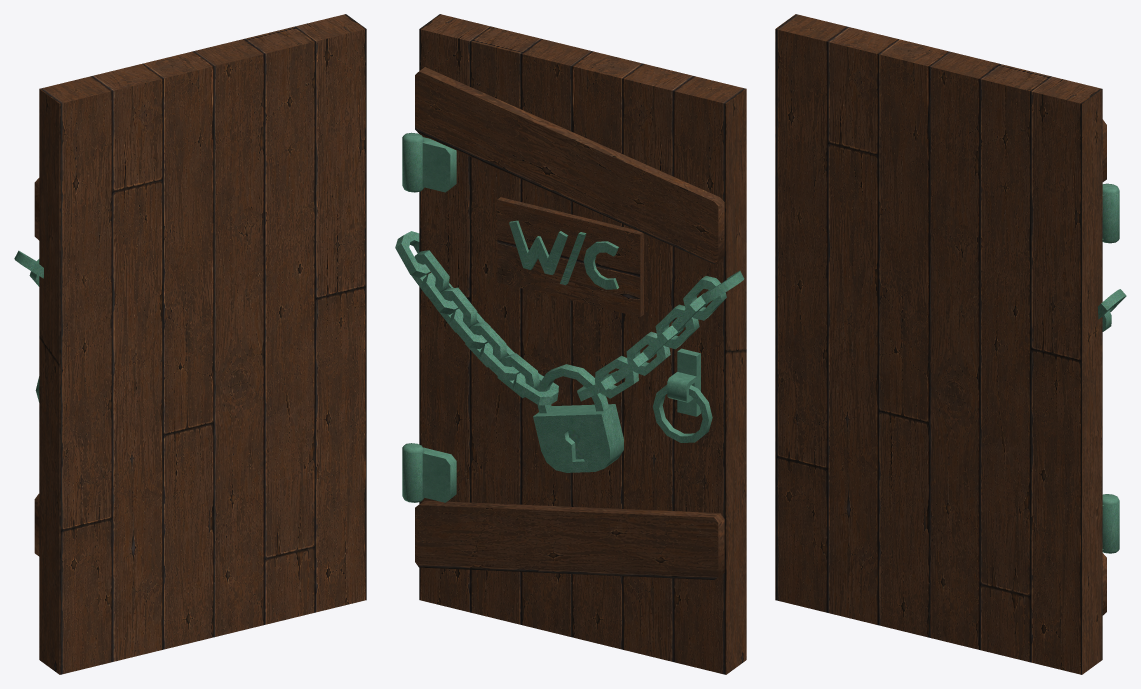
The model's file is Bedroom_Base_Z_Door_2.fbx.
3 views of the same model, side by side, from view 1: azimuth 30°, elevation 25°; view 2: azimuth 150°, elevation 25°; view 3: azimuth 330°, elevation 25° (orthographic).
Parts seen in each view (by area): view 1: Bedroom_Base_Z_Door_2; view 2: Bedroom_Base_Z_Door_2; view 3: Bedroom_Base_Z_Door_2.
Boxes of the visible parts, x1,y1,x2,y2 form: Bedroom_Base_Z_Door_2: (14, 14, 366, 674); Bedroom_Base_Z_Door_2: (395, 14, 746, 674); Bedroom_Base_Z_Door_2: (775, 14, 1126, 674).
Bounding box in the file's own units: 117 × 188 × 26.69.
